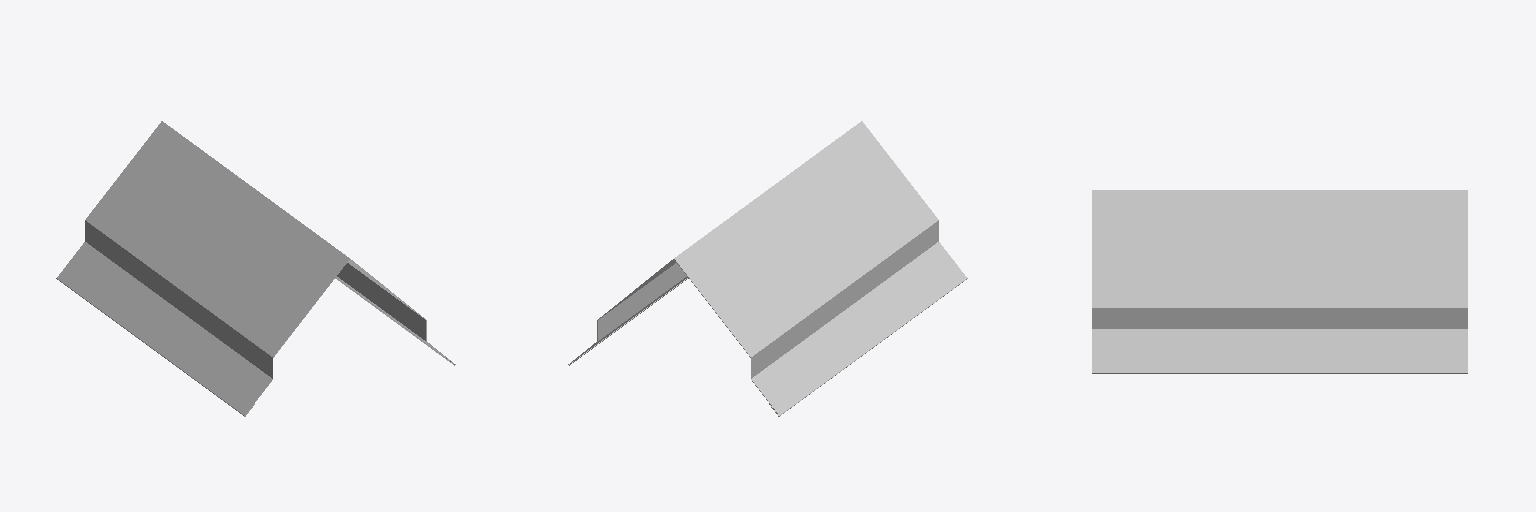
The model's file is RCP.obj.
3 views of the same model, side by side, from view 1: azimuth 30°, elevation 25°; view 2: azimuth 150°, elevation 25°; view 3: azimuth 270°, elevation 25° (orthographic).
Bounding box in the file's own units: 198 × 119 × 305.